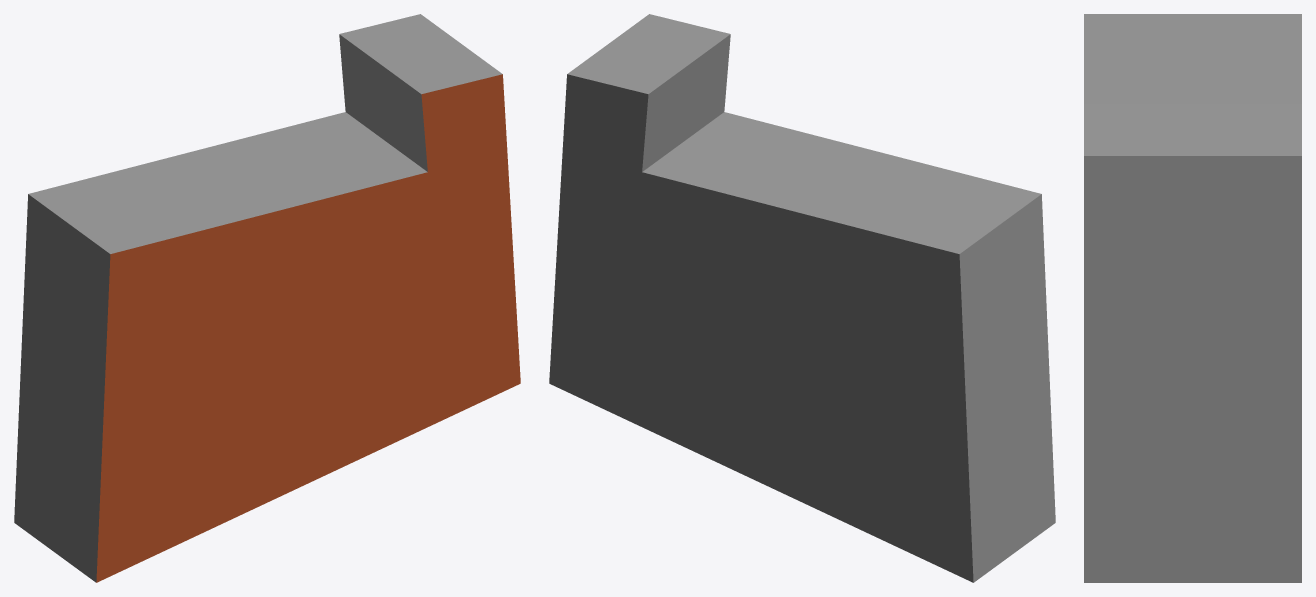
Rendered from construction_6601_assumed_A_Casa_h6m.obj.
3 renders of one model, left to right at view 1: azimuth 30°, elevation 25°; view 2: azimuth 150°, elevation 25°; view 3: azimuth 270°, elevation 25°, orthographic. The views are drawn at different scales.
Parts seen in each view (by area): view 1: construction_6601_assumed_A_Casa; view 2: construction_6601_assumed_A_Casa; view 3: construction_6601_assumed_A_Casa.
Part boxes in pixels (x1,y1,x2,y2): construction_6601_assumed_A_Casa: (14, 14, 520, 582); construction_6601_assumed_A_Casa: (549, 14, 1055, 582); construction_6601_assumed_A_Casa: (1084, 14, 1301, 582).
Bounding box in the file's own units: 17.87 × 16.48 × 6.
